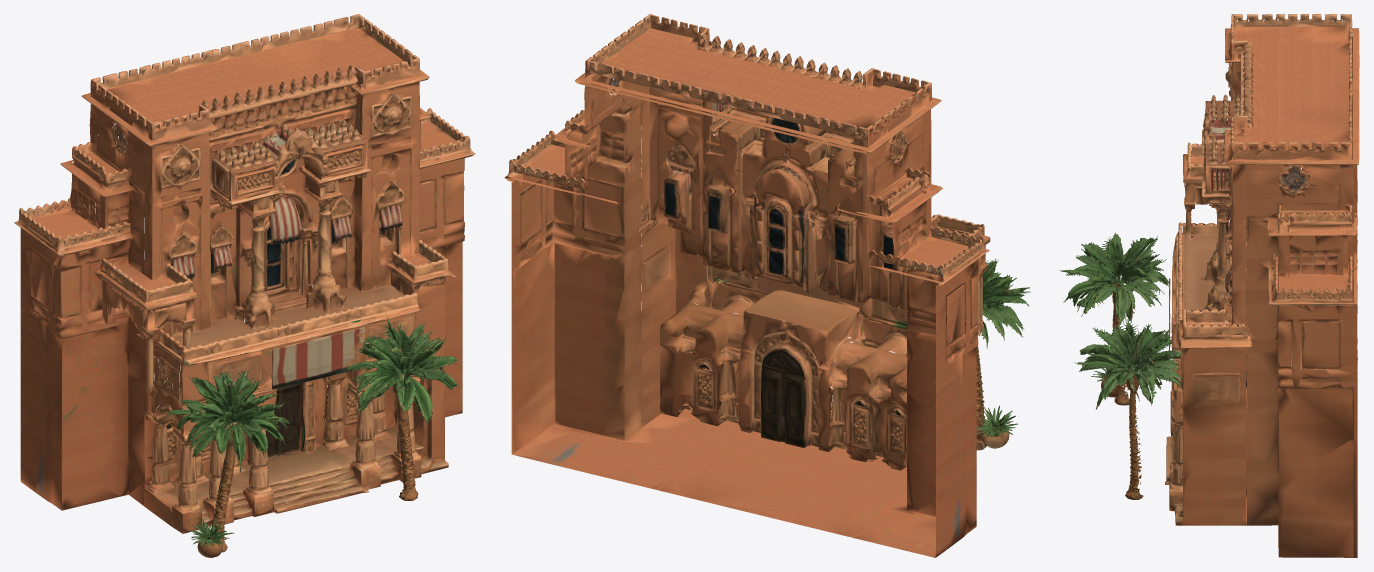
The model's file is desert_block.glb.
3 views of the same model, side by side, from view 1: azimuth 30°, elevation 25°; view 2: azimuth 150°, elevation 25°; view 3: azimuth 270°, elevation 25° (orthographic). The views are drawn at different scales.
Bounding box in the file's own units: 1.9 × 1.7 × 1.2.
Materials: 1 (1 with a texture image).
